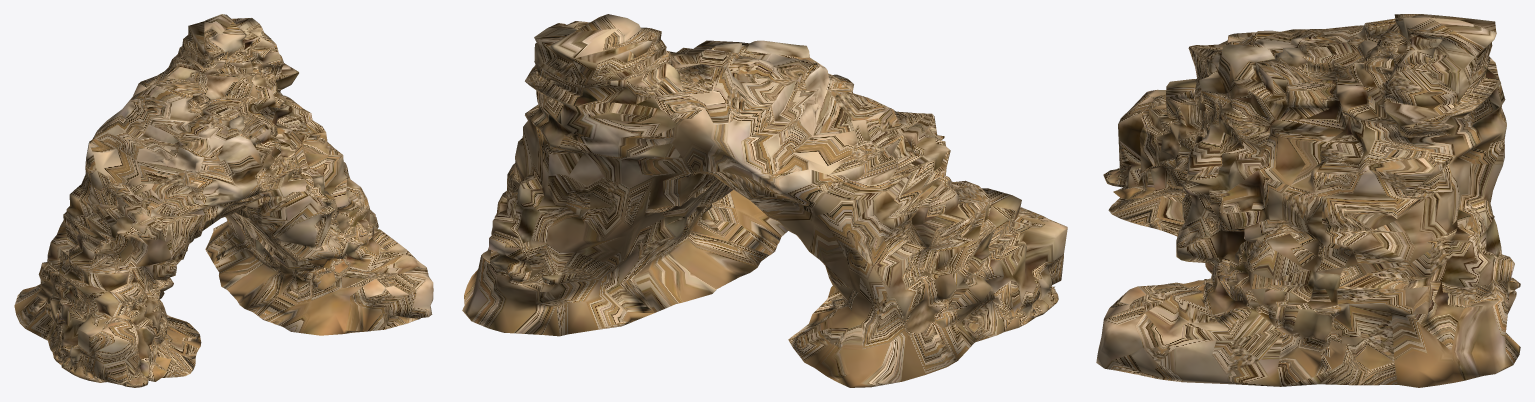
The model's file is Desert_Sandstone_Arch.glb.
3 views of the same model, side by side, from view 1: azimuth 30°, elevation 25°; view 2: azimuth 150°, elevation 25°; view 3: azimuth 270°, elevation 25° (orthographic). The views are drawn at different scales.
Parts seen in each view (by area): view 1: Desert_Sandstone_Arch; view 2: Desert_Sandstone_Arch; view 3: Desert_Sandstone_Arch.
Part boxes in pixels (<box>): Desert_Sandstone_Arch: <box>14,14,433,387</box>; Desert_Sandstone_Arch: <box>462,14,1067,387</box>; Desert_Sandstone_Arch: <box>1096,14,1520,387</box>.
Bounding box in the file's own units: 1.9 × 1.11 × 1.45.
1 material, 1 textured.
